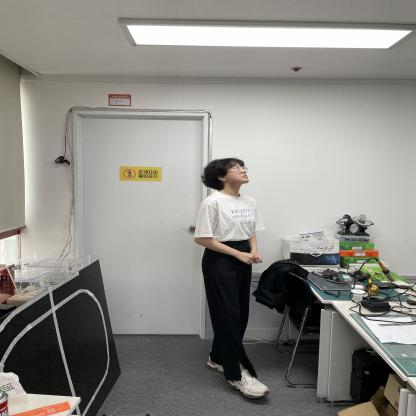normal: (194, 150, 280, 402)
